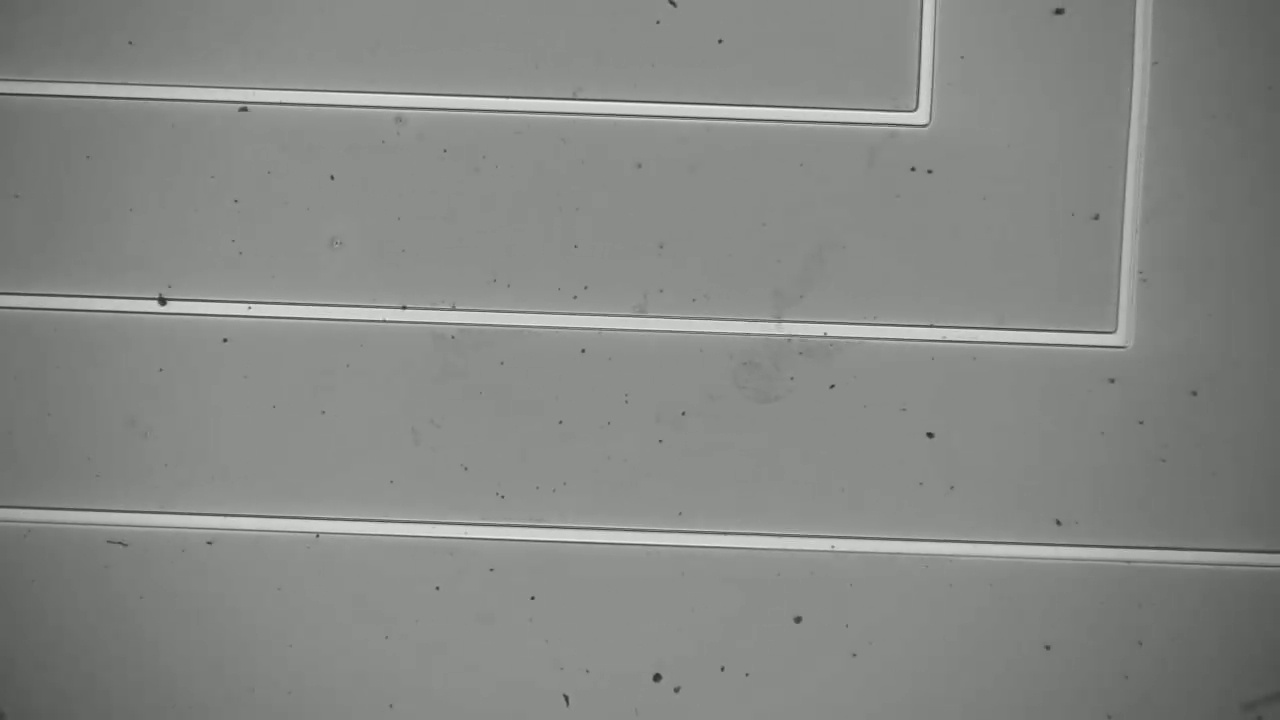stains_enbedded: (155, 291, 170, 318)
